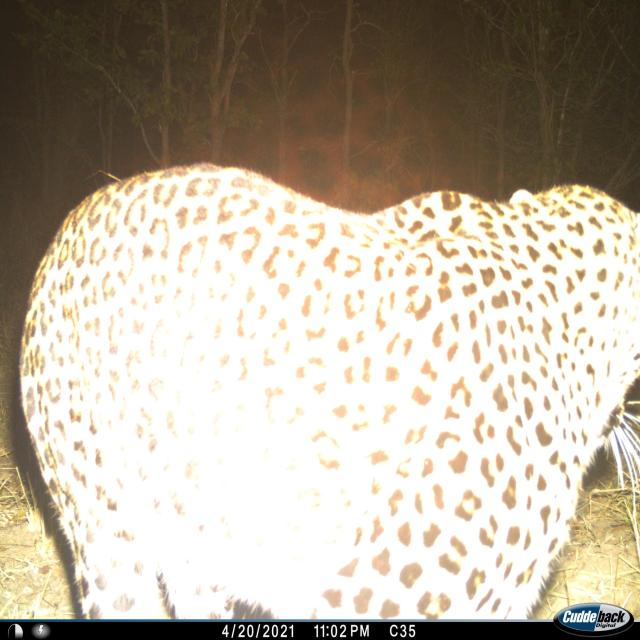Leopard: (0, 166, 640, 634)
